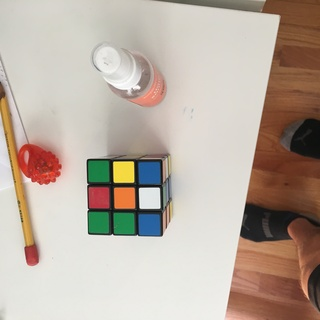face: (86, 159, 163, 237)
